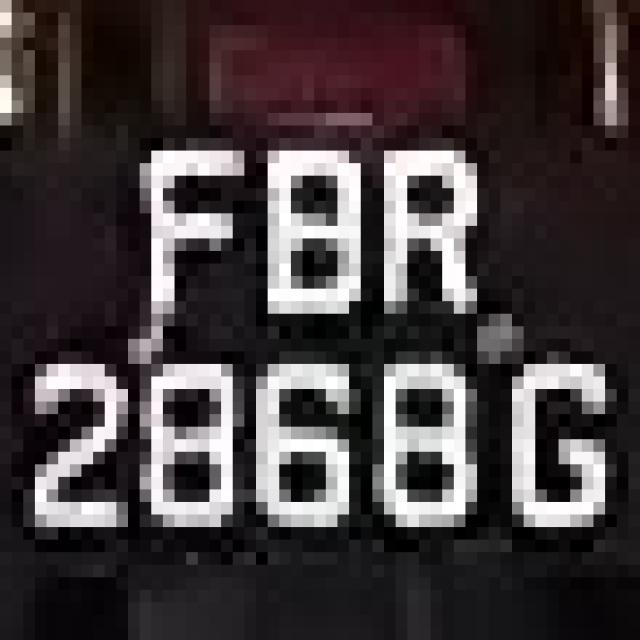2: (0, 314, 151, 590)
6: (221, 351, 372, 565)
8: (349, 301, 500, 552), (128, 352, 256, 578)
B: (244, 125, 384, 339)
F: (105, 100, 244, 339)
G: (489, 314, 628, 577)
R: (361, 113, 500, 376)
